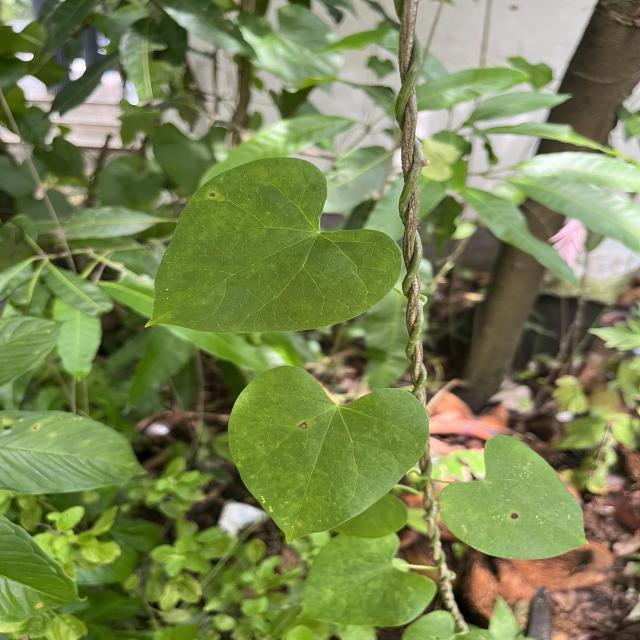Tinospora cordifolia: (140, 152, 406, 336), (225, 361, 432, 548), (434, 432, 592, 564)
